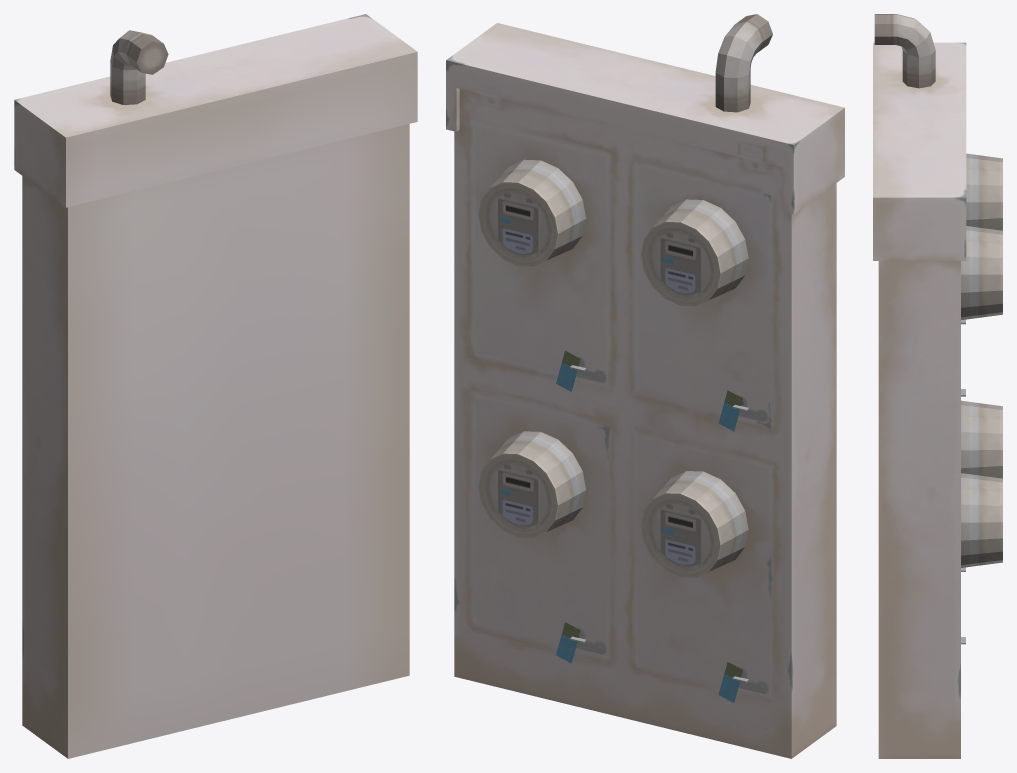
File: P_ElectricBox_003_S1_M01.obj
3 renders of one model, left to right at view 1: azimuth 30°, elevation 25°; view 2: azimuth 150°, elevation 25°; view 3: azimuth 270°, elevation 25°, orthographic. The views are drawn at different scales.
Size of the model in its own units: 0.9792 by 1.86 by 0.3465.
1 material, 1 textured.
